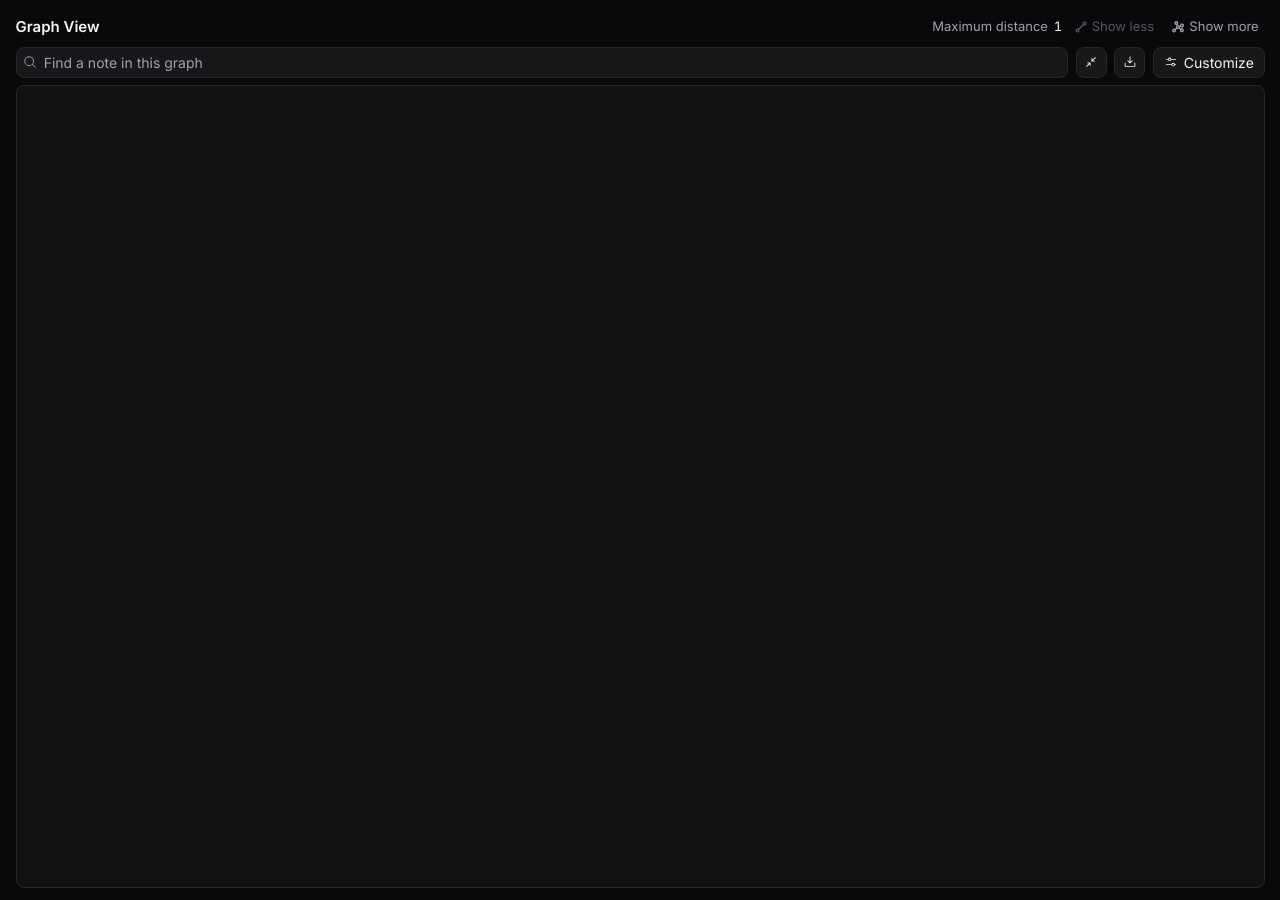
Test case: LocalGraphPanel › tags network switch is offered only for a tag centre
The width and height of the screenshot is (1280, 900).
Click the button "Customize" at (1209, 62), box [1153,47,1264,78]
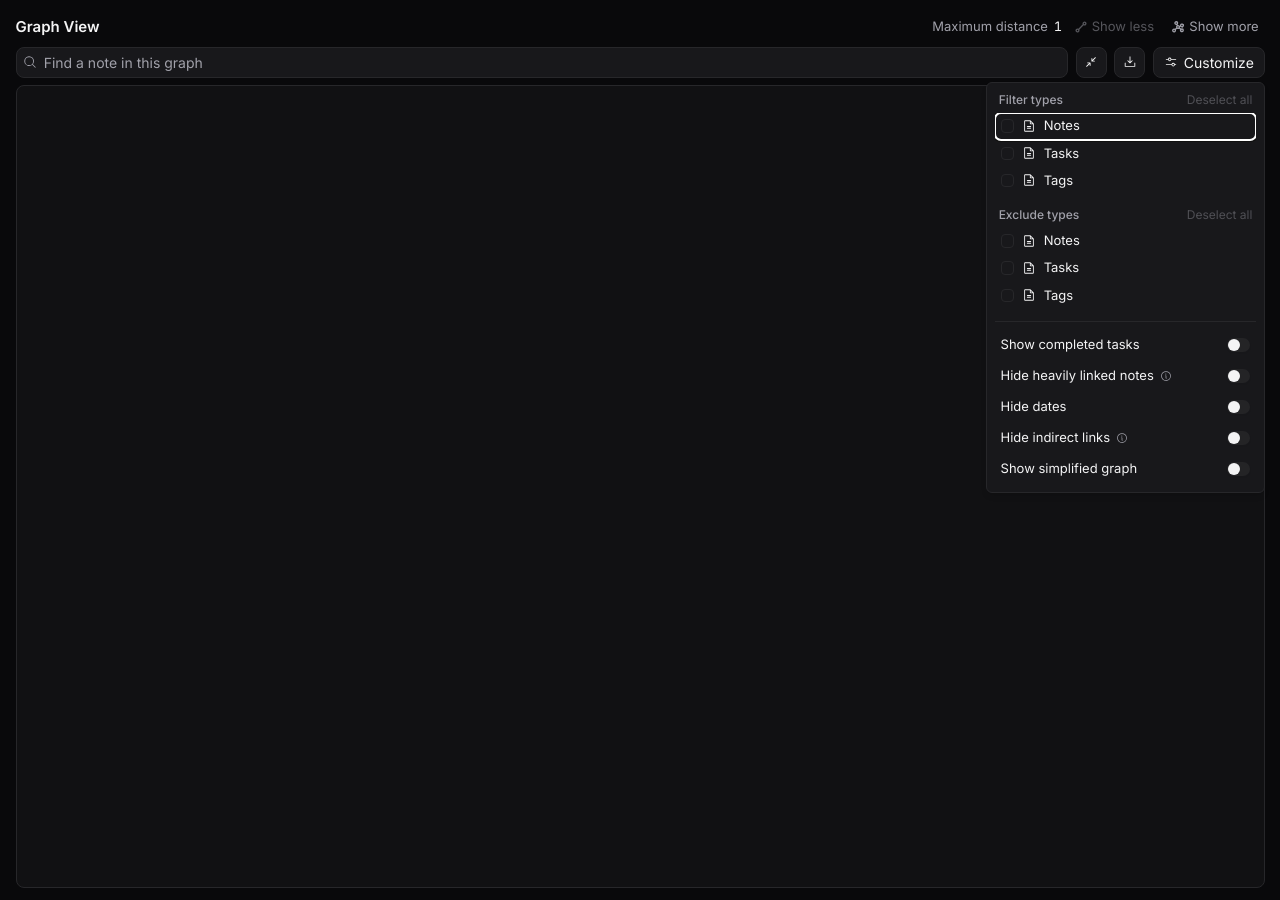
Check: the switch named "Show completed tasks" is shown, box [1227,338,1250,352]
